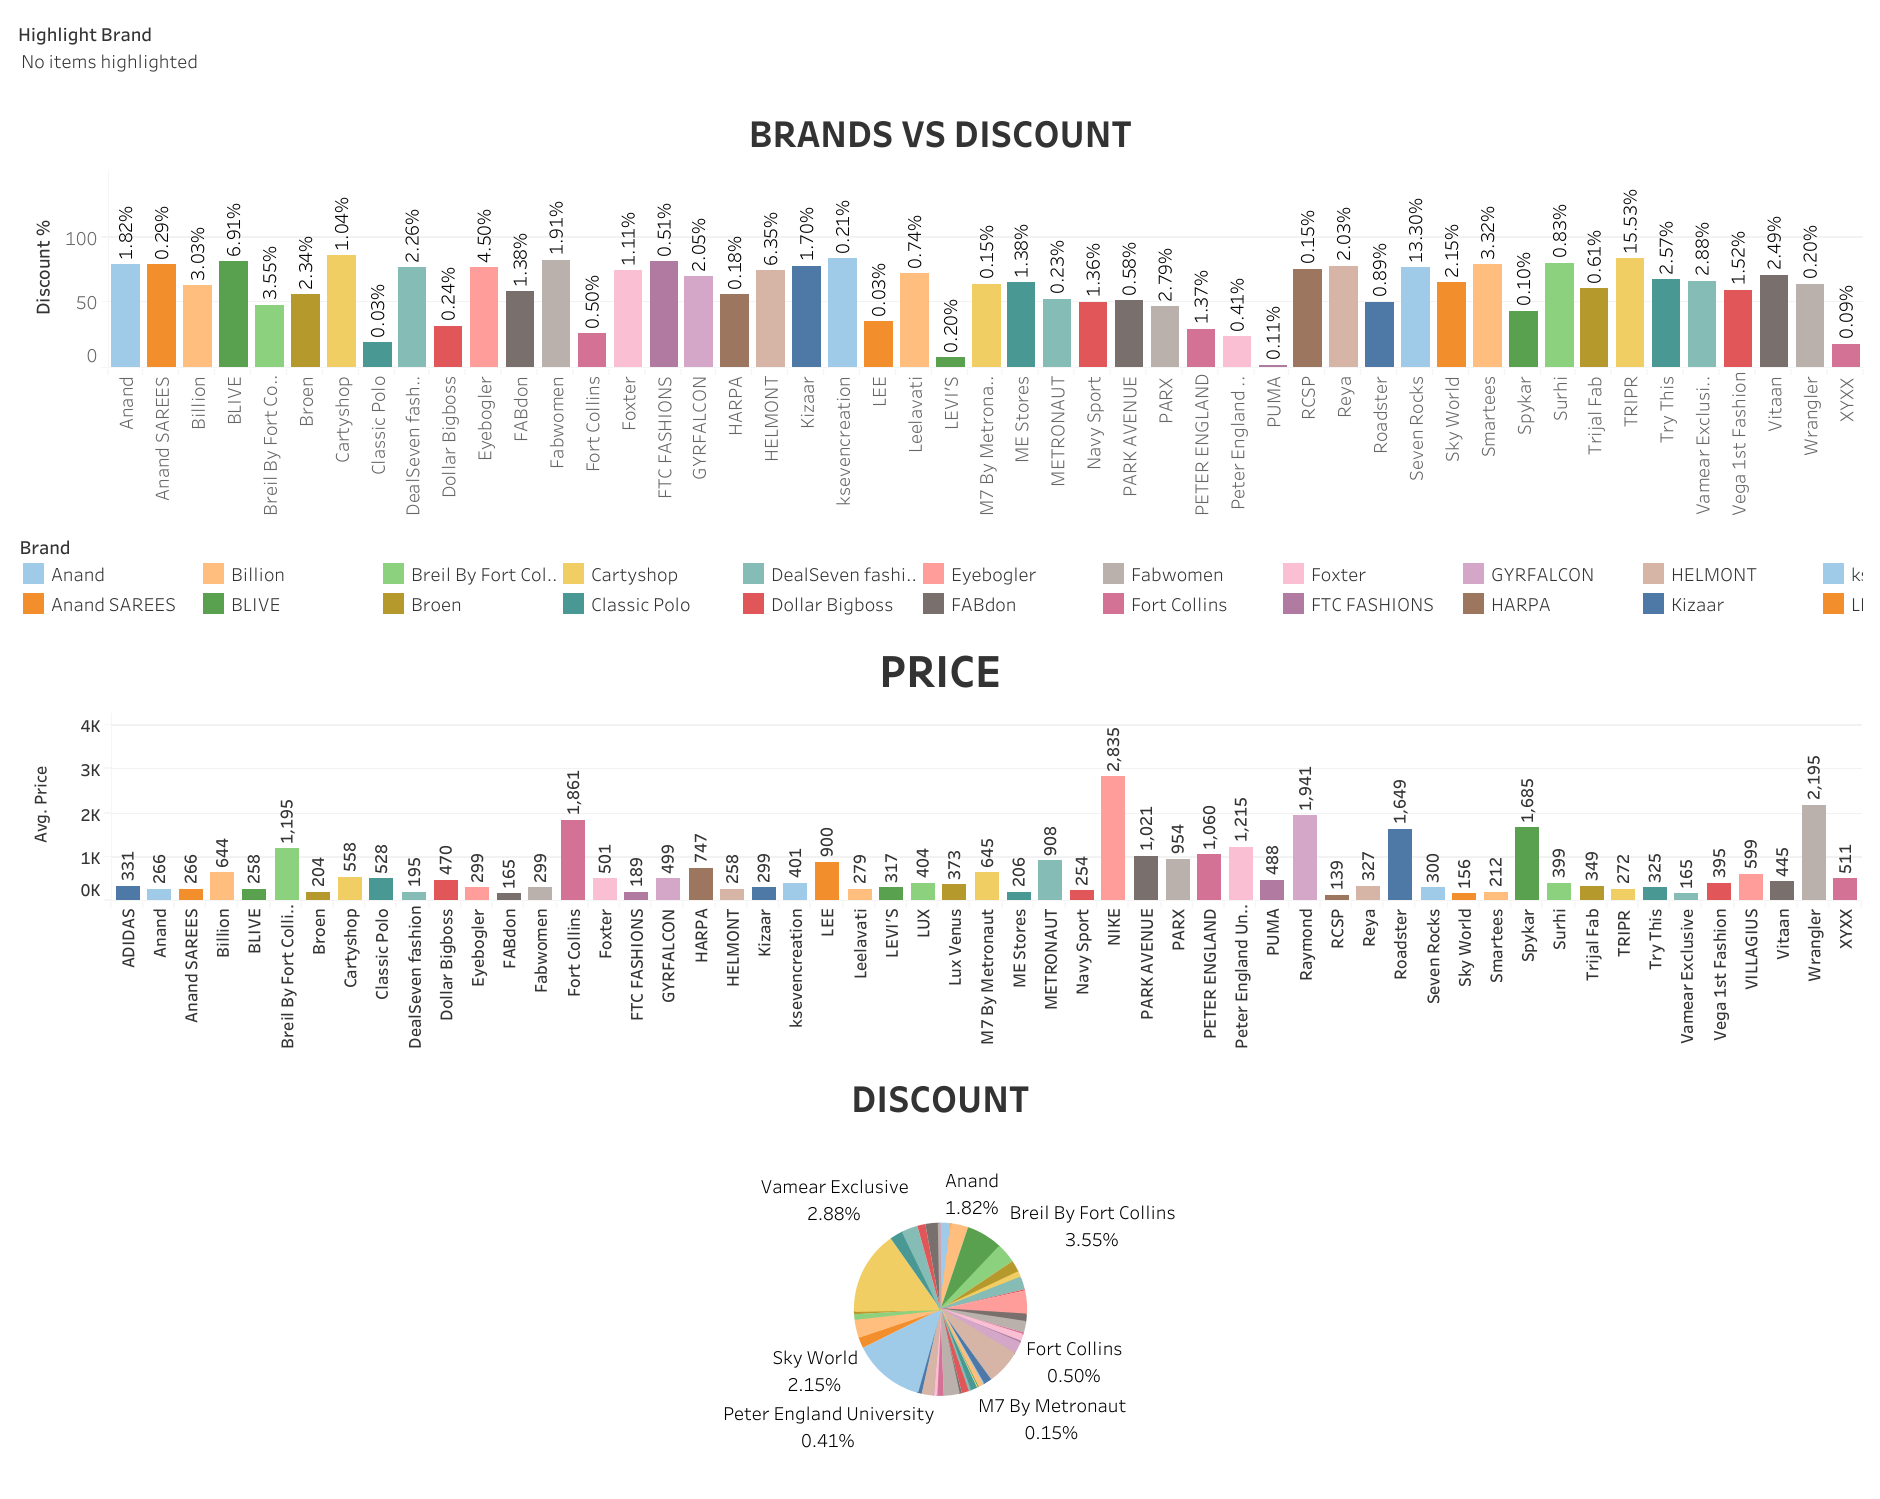

The dashboard page shown, as its layout file describes it:
{"tool":"tableau","page":{"name":"Dashboard 1","canvas":[1000,1000],"units":"permille","ordinal":0},"visuals":[{"type":"worksheet","title":"Sheet 1","mark":"Automatic","rows":["INFLUENCER","Brands"],"box":[5,9.8,436.9,448.7]},{"type":"worksheet","title":"Sheet 2","mark":"Square","rows":["INFLUENCER"],"box":[441.9,9.8,437.1,448.7]},{"type":"filter","title":"Sheet 1","param":"[federated.13rwl8h0sdxxll1f3v9n91s2zm3f].[none:INFLUENCER:nk]","box":[879.1,9.8,116,84.4]},{"type":"legend","title":"Sheet 3","param":"[federated.13rwl8h0sdxxll1f3v9n91s2zm3f].[none:INFLUENCER:nk]","box":[879.1,94.1,116,336.2]},{"type":"worksheet","title":"Sheet 3","mark":"Circle","box":[5,458.4,990,531.8]}]}

Visuals, with their boxes on the dashboard's canvas, which has no fixed pixel size, in thousandths of its width and height (x1, y1, x2, y2). These are canvas units, not pixel positions in the 1880x1499 screenshot, which may show the page scaled, cropped or inside an application window:
"Sheet 1" worksheet: Rect(5, 10, 442, 458)
"Sheet 2" worksheet (Square marks): Rect(442, 10, 879, 458)
"Sheet 1" filter: Rect(879, 10, 995, 94)
"Sheet 3" legend: Rect(879, 94, 995, 430)
"Sheet 3" worksheet (Circle marks): Rect(5, 458, 995, 990)
